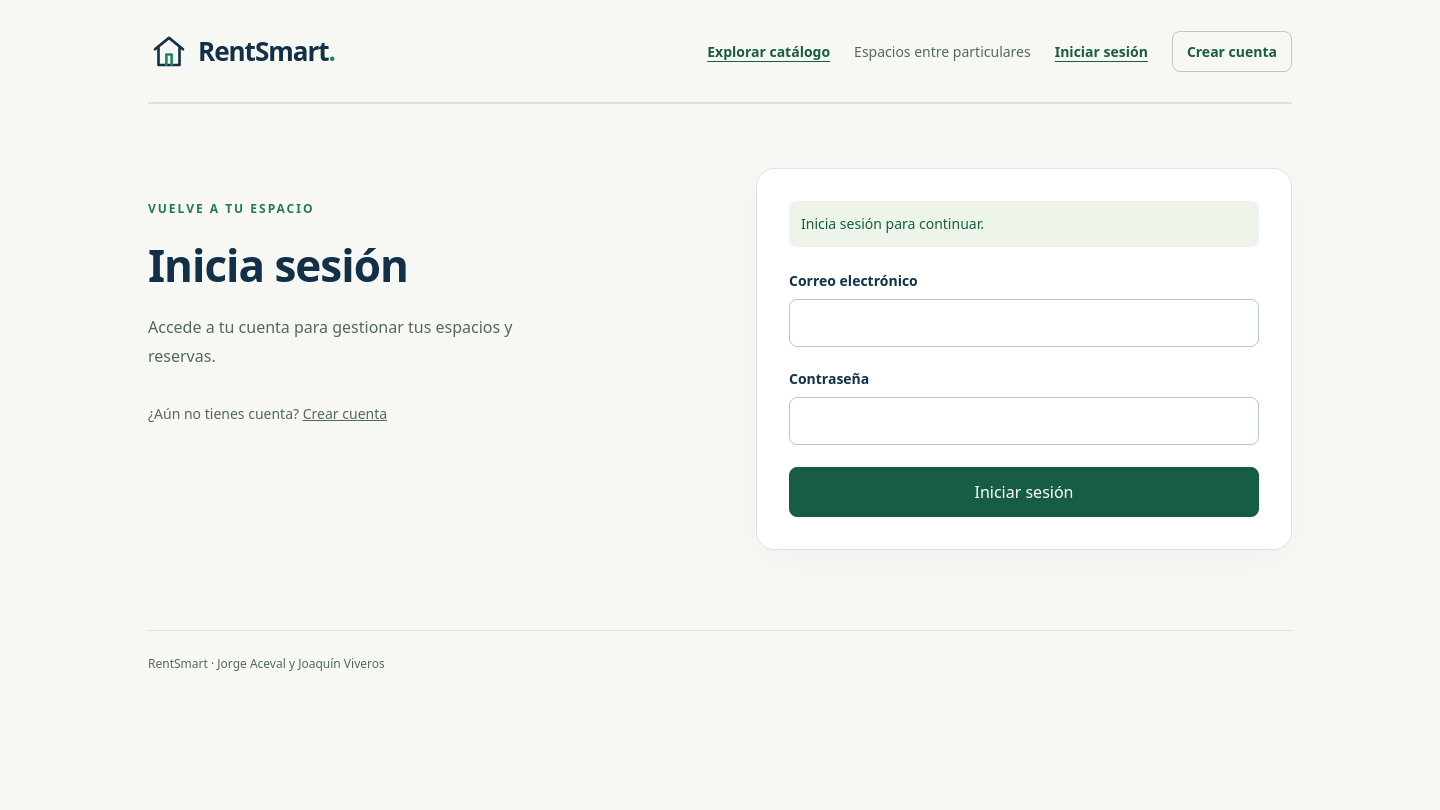
Scenario: HU13: conserva la ruta privada tras iniciar sesión y no consulta reservas anónimas
Expected: the heading "Inicia sesión" is shown, [148, 235, 408, 295]
Type "persona@example.com" into the field labelled "Correo electrónico".
click(1024, 323); type("persona@example.com")  # box [789, 299, 1259, 347]
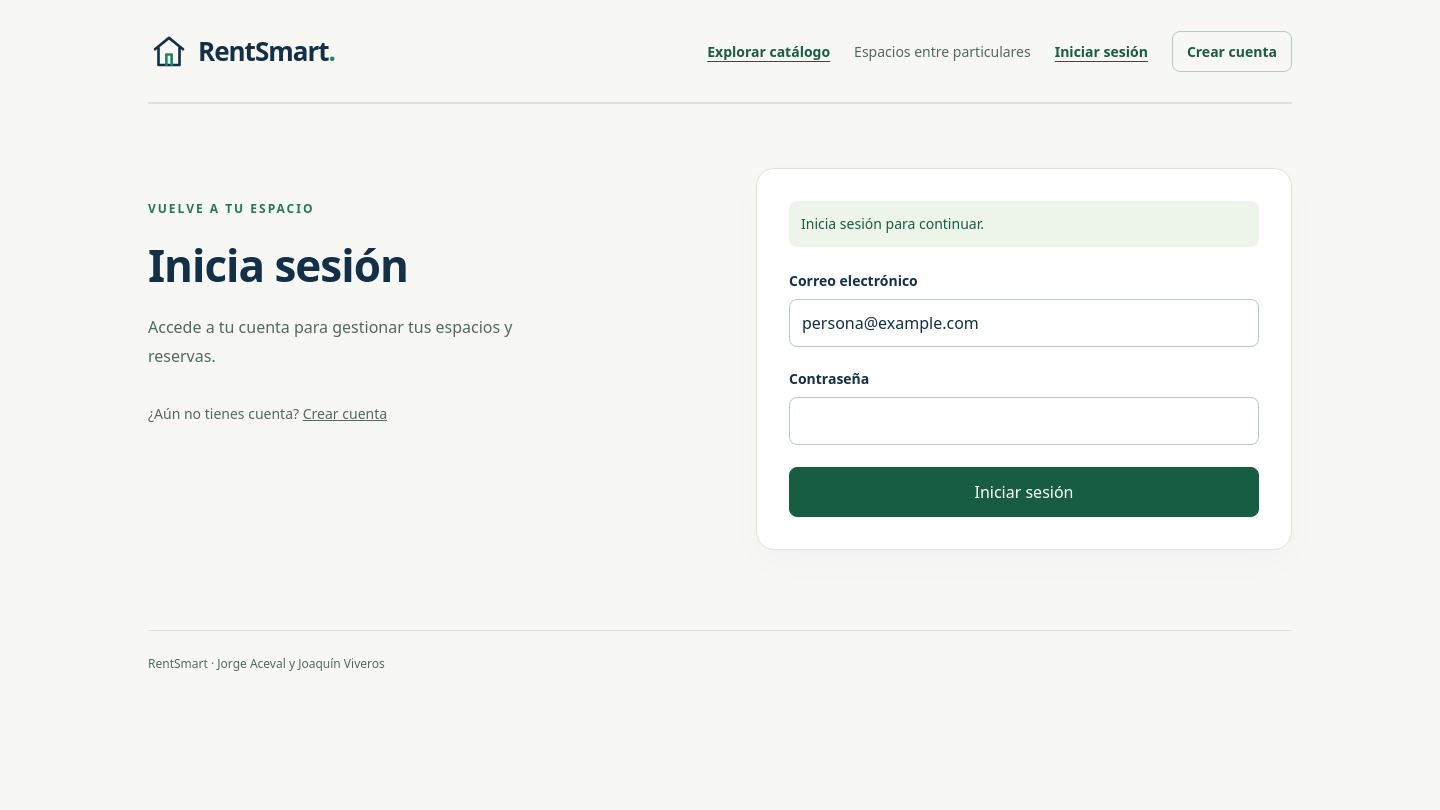
Type "Clave de prueba 2026!" into the password field labelled "Contraseña".
click(1024, 421); type("Clave de prueba 2026!")  # box [789, 397, 1259, 445]
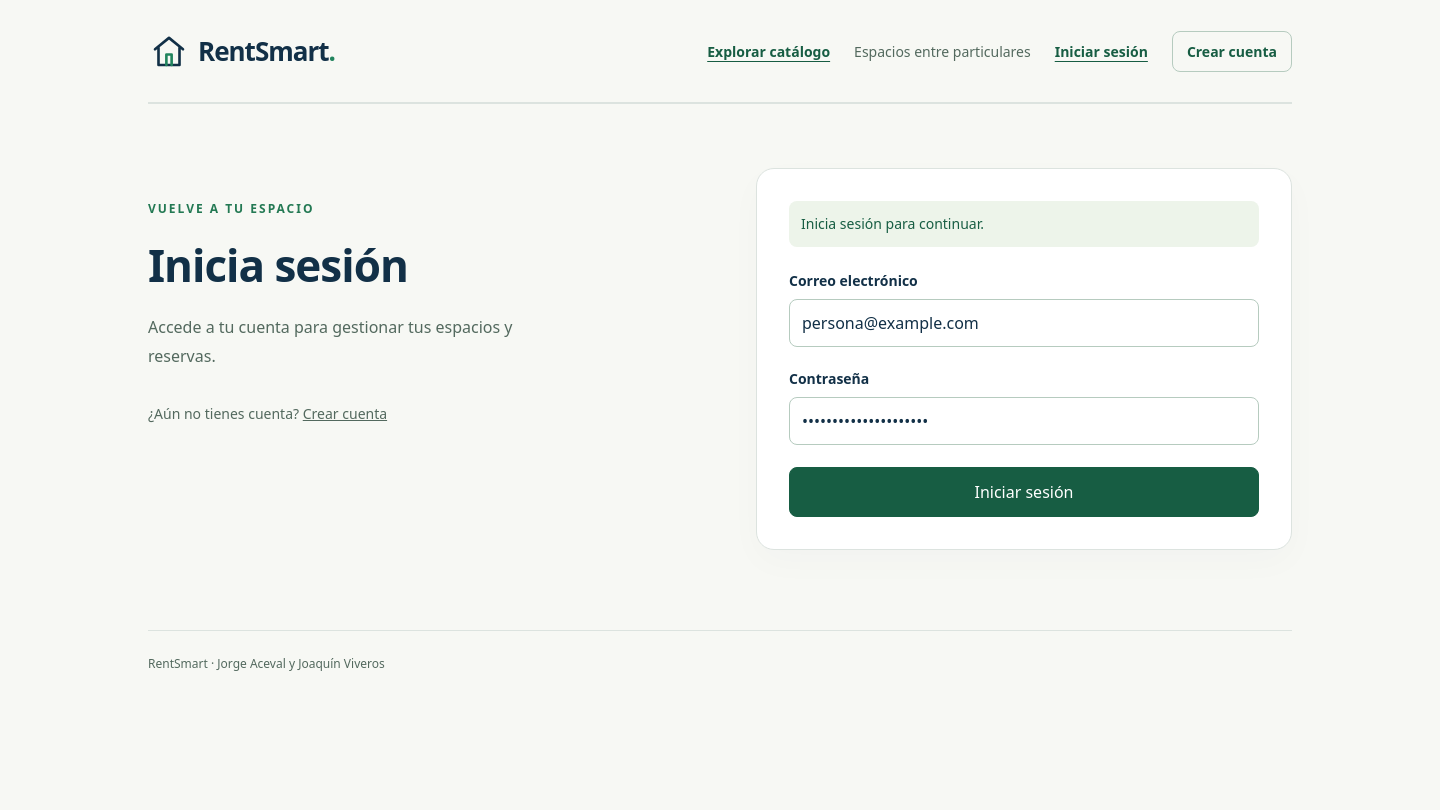
Click the button "Iniciar sesión".
click(1024, 492)  # box [789, 467, 1259, 517]
(page scrolled)
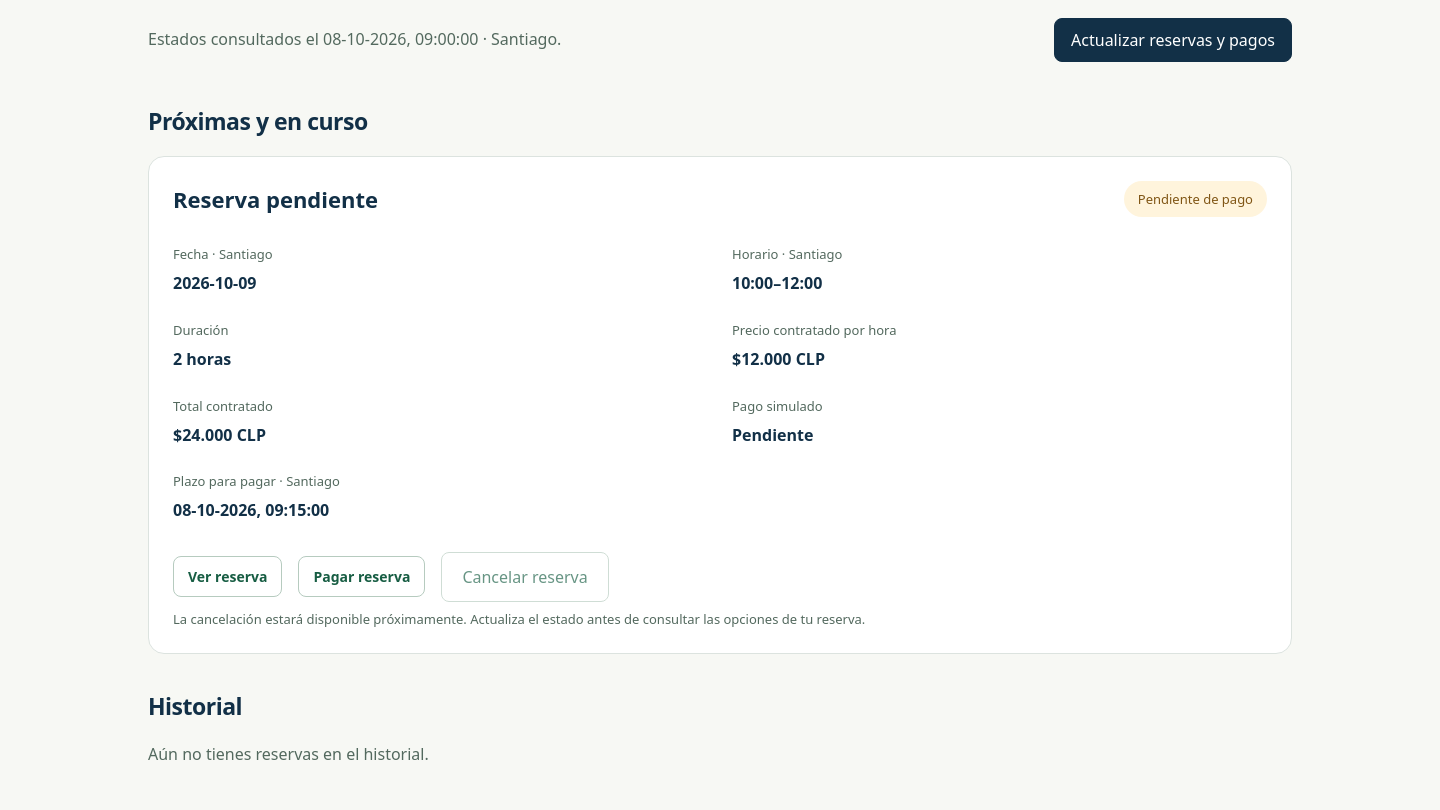
Expected: the element "Reserva pendiente" is shown, [148, 156, 1292, 654]
